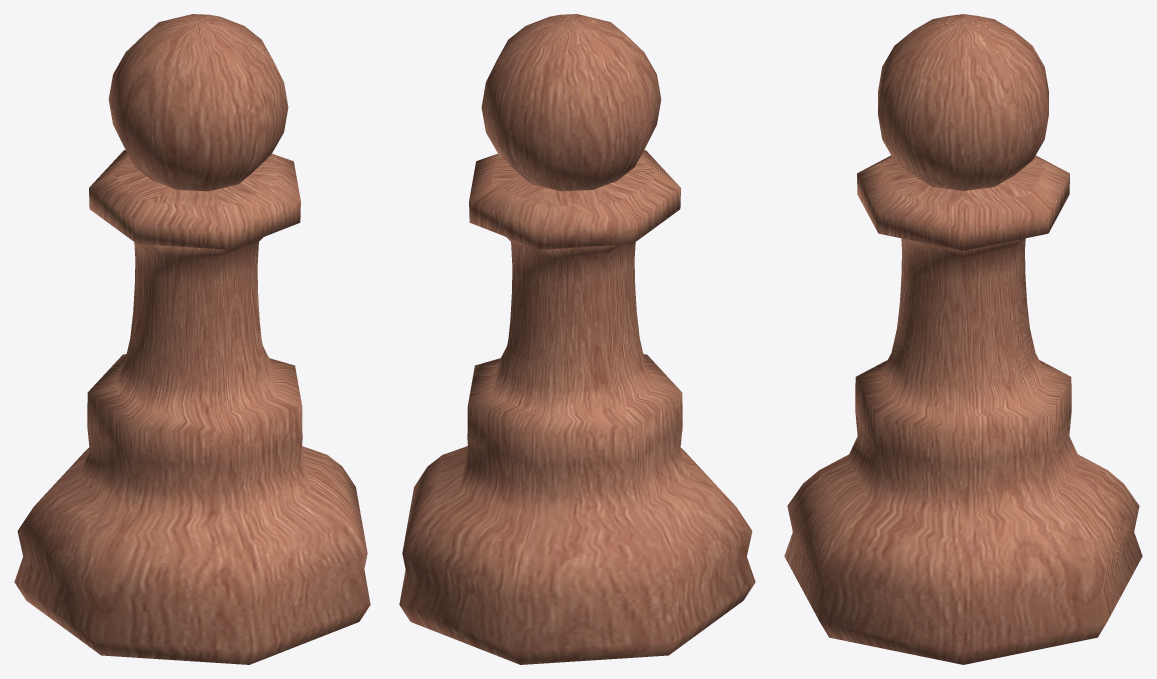
The model's file is porn_0420.fbx.
3 views of the same model, side by side, from view 1: azimuth 30°, elevation 25°; view 2: azimuth 150°, elevation 25°; view 3: azimuth 270°, elevation 25° (orthographic).
Visible parts, largest first — view 1: nurbsToPoly1, pSphere1; view 2: nurbsToPoly1, pSphere1; view 3: nurbsToPoly1, pSphere1.
Boxes of the visible parts, box(x1,y1,x2,y2) form: nurbsToPoly1: box(14, 150, 370, 664); pSphere1: box(108, 14, 288, 191); nurbsToPoly1: box(399, 150, 755, 664); pSphere1: box(481, 14, 661, 191); nurbsToPoly1: box(784, 155, 1142, 664); pSphere1: box(878, 14, 1048, 190).
Bounding box in the file's own units: 3.37 × 6.13 × 3.46.
1 material, 1 textured.
